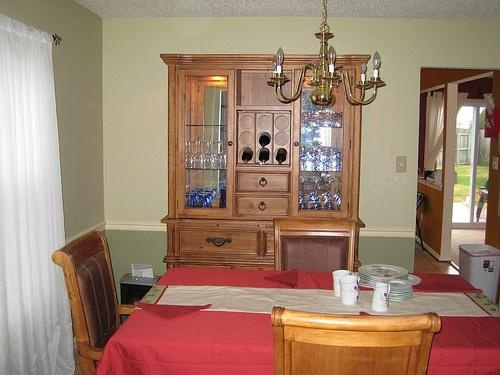chair: (52, 230, 140, 375)
diningtable: (110, 269, 500, 375)
